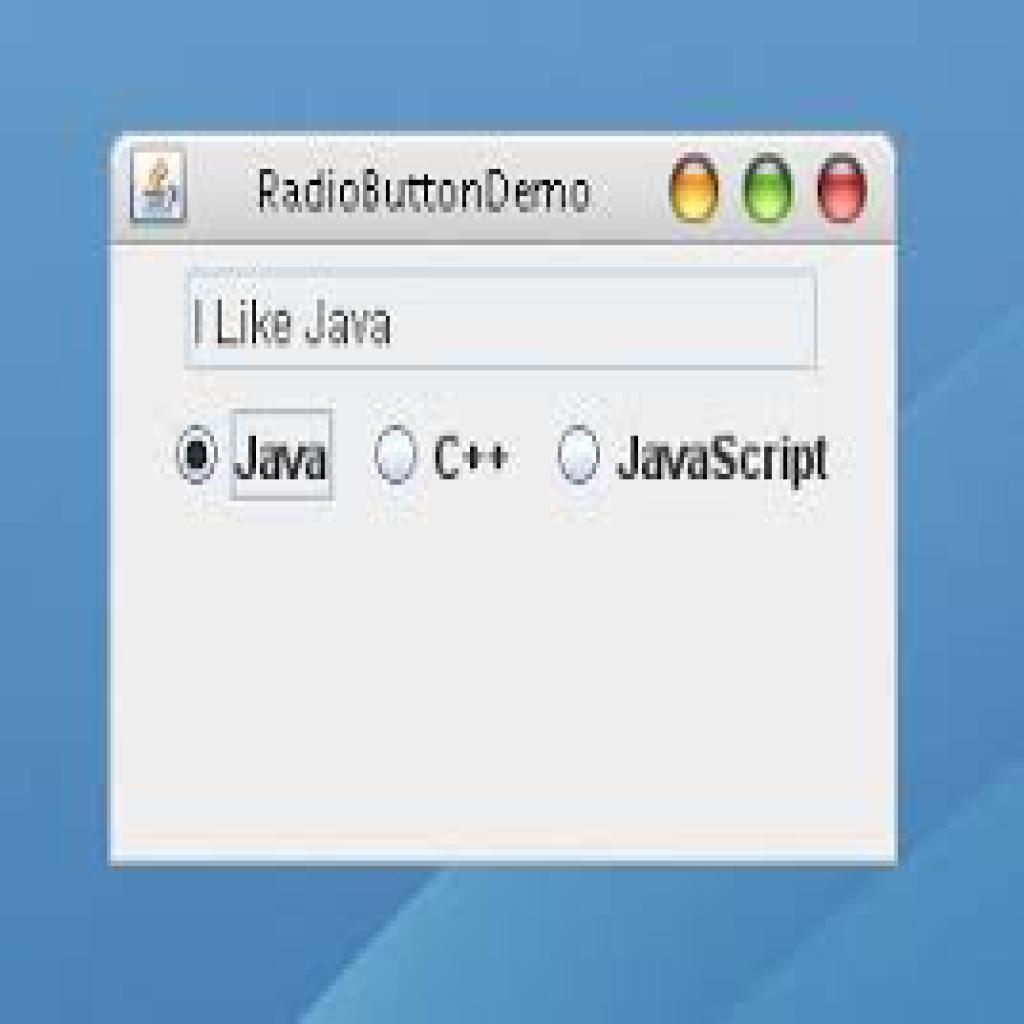input: (190, 269, 819, 370)
label: (617, 427, 834, 488), (231, 412, 334, 497), (431, 421, 509, 481)
radio: (556, 409, 607, 491), (369, 416, 420, 495), (177, 416, 225, 494)
